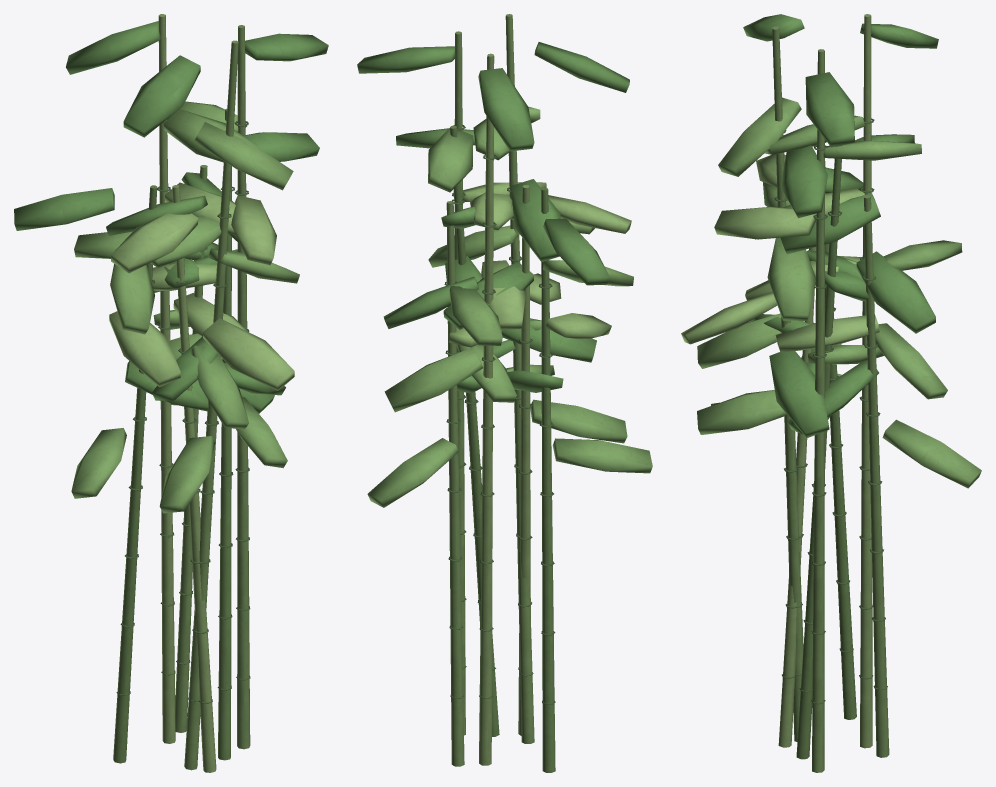
The model's file is env_bamboo.glb.
The picture shows the model from 3 angles, left to right: view 1: azimuth 30°, elevation 25°; view 2: azimuth 150°, elevation 25°; view 3: azimuth 270°, elevation 25°; orthographic projection. The views are drawn at different scales.
Parts seen in each view (by area): view 1: env_bamboo; view 2: env_bamboo; view 3: env_bamboo.
Part boxes in pixels (bbox=[...]): env_bamboo: bbox=[14, 14, 328, 772]; env_bamboo: bbox=[357, 14, 652, 772]; env_bamboo: bbox=[681, 14, 981, 772].
Bounding box in the file's own units: 2.66 × 6.53 × 2.45.
1 material, 1 textured.
